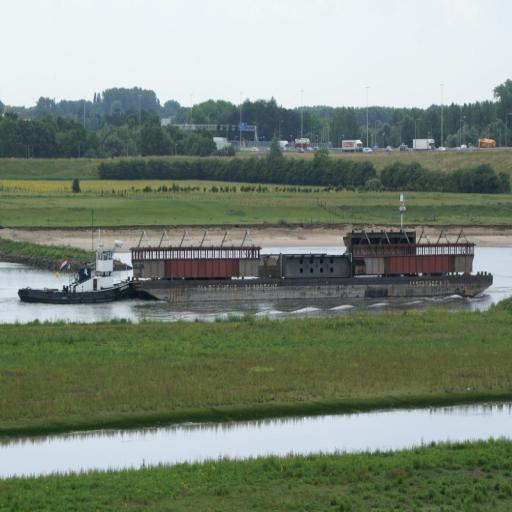tugboat: (17, 224, 157, 311)
